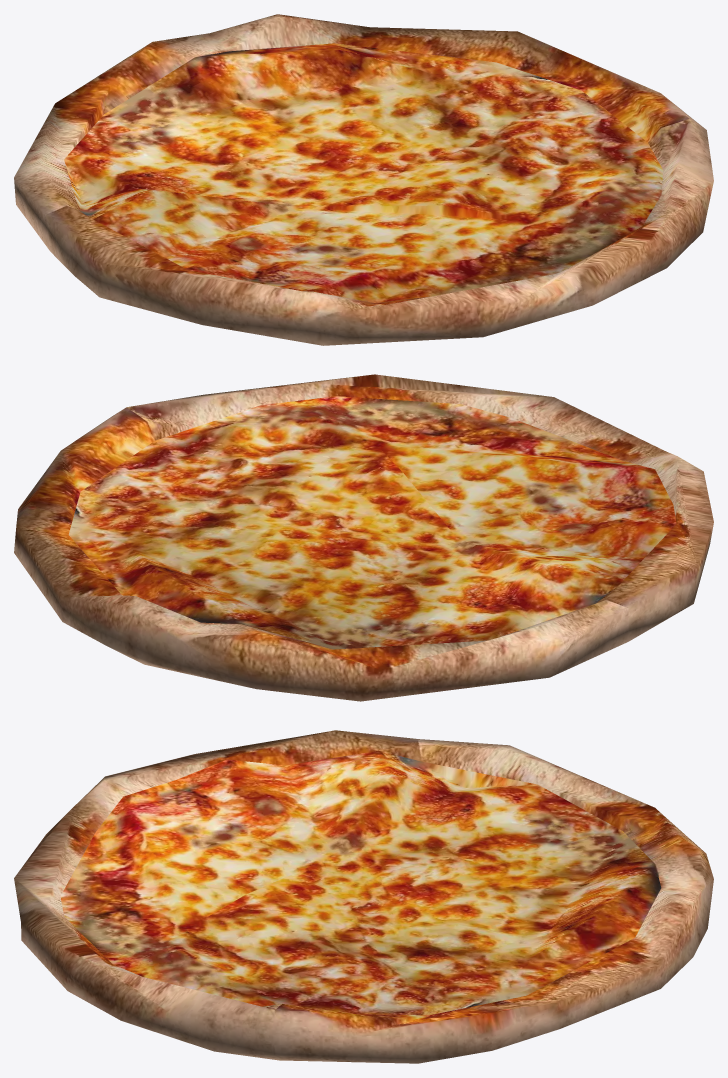
The model's file is pizza.glb.
3 renders of one model, top to bottom at view 1: azimuth 30°, elevation 25°; view 2: azimuth 150°, elevation 25°; view 3: azimuth 270°, elevation 25°, orthographic.
Visible parts, largest first — view 1: Object_4; view 2: Object_4; view 3: Object_4.
Boxes of the visible parts, bbox=[...] form: Object_4: bbox=[14, 14, 713, 345]; Object_4: bbox=[14, 374, 713, 701]; Object_4: bbox=[14, 730, 713, 1063].
Size of the model in its own units: 48.7 by 4.88 by 48.89.
Materials: 1 (1 with a texture image).
